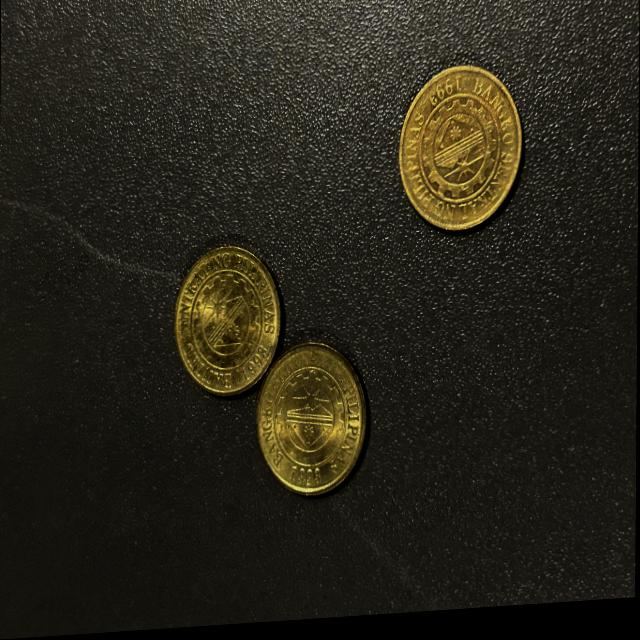25Cent_Old_Back: (413, 73, 518, 216), (270, 358, 363, 490), (182, 266, 270, 380)
